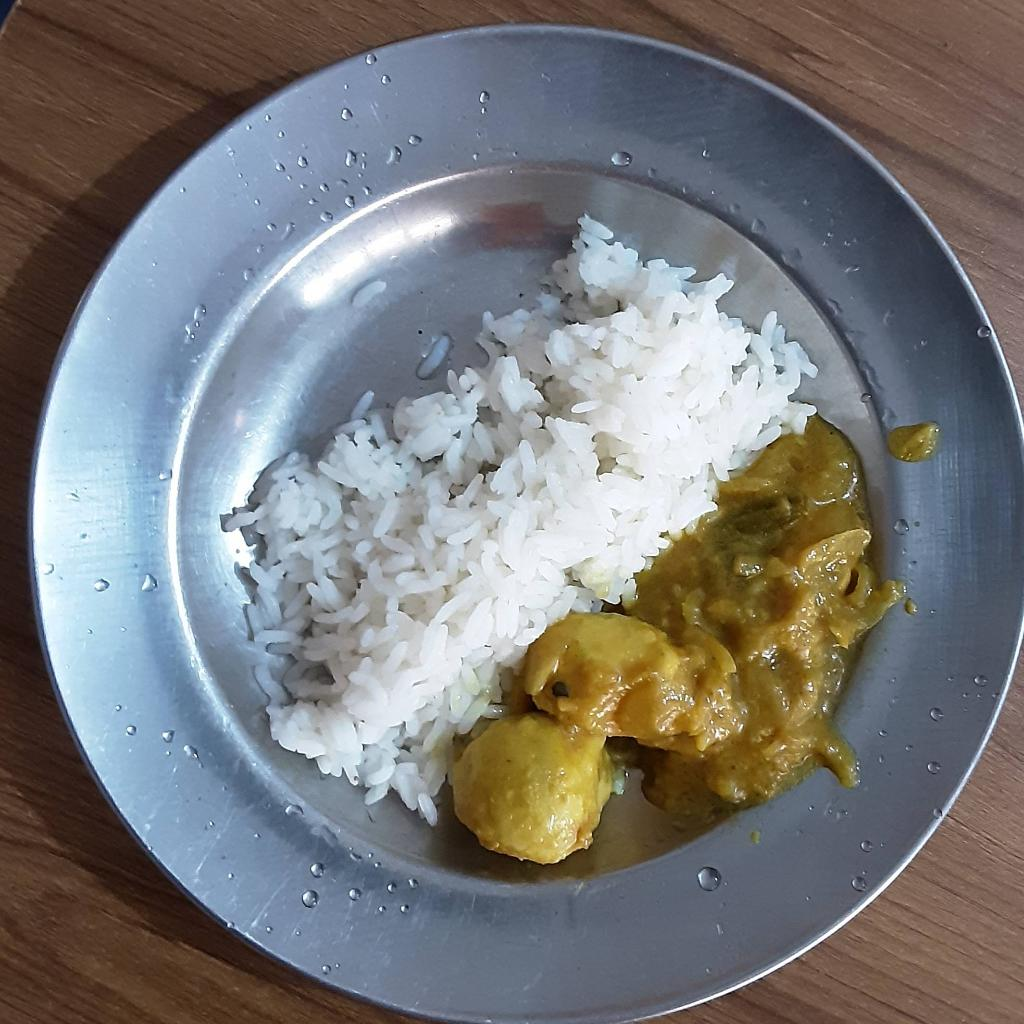rice: (236, 223, 826, 821)
salad: (450, 422, 879, 854)
